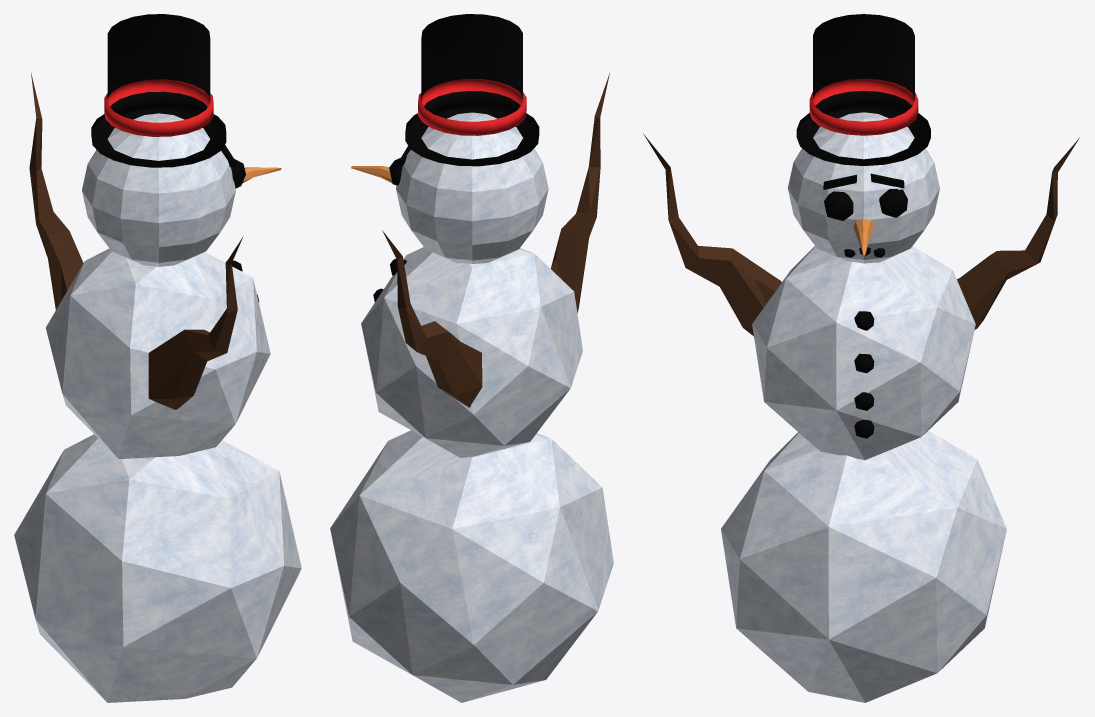
File: Snowman.glb
3 renders of one model, left to right at view 1: azimuth 30°, elevation 25°; view 2: azimuth 150°, elevation 25°; view 3: azimuth 270°, elevation 25°, orthographic.
Visible parts, largest first — view 1: Sphere; view 2: Sphere; view 3: Sphere.
Part boxes in pixels (<box>): Sphere: <box>14,14,301,702</box>; Sphere: <box>330,14,613,702</box>; Sphere: <box>643,14,1079,702</box>.
Bounding box in the file's own units: 1.99 × 4.94 × 3.06.
Materials: 5 (1 with a texture image).
